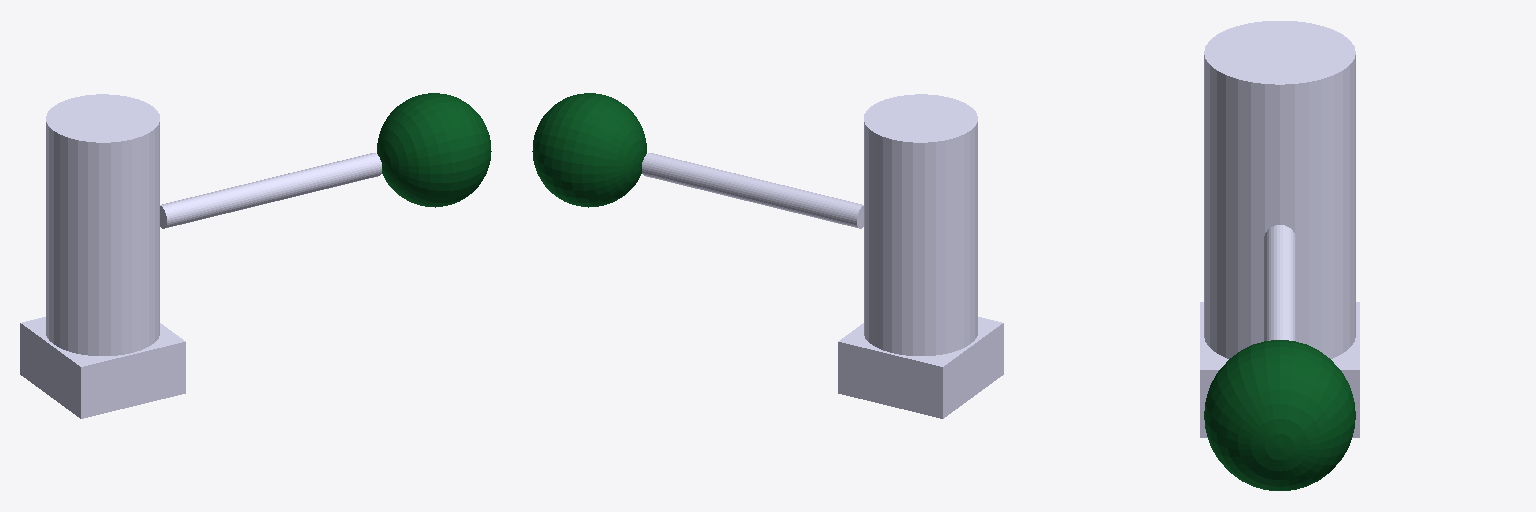
The robot description file, URDF, robot "robot":
<?xml version="1.0"?>
<robot name="robot">

<material name="marble">
  <color rgba="0.9 0.9 1.0 1"/>
</material>

<material name="granite">
  <color rgba="0.1 0.4 0.2 1"/>
</material>

  <link name="base_link">
    <collision>
      <geometry>
       <box size="0.2 0.2 0.1"/> </geometry>
    </collision>
    <visual>
      <geometry>
        <box size="0.19 0.19 0.09"/> </geometry>
      <material name="marble"/>
    </visual>
  </link>

  <joint name="joint1" type="revolute">
    <parent link="base_link"/>
    <child link="shaft"/>
    <axis xyz="0 0 1"/> 
    <origin rpy="0 0 0" xyz="0.0 0.0 0.22"/>
    <limit effort="10" lower="-3.2" upper="3.2" velocity="2.1750"/>
  </joint>

  <link name="shaft">
    <collision>
      <geometry>
        <cylinder length="0.4" radius="0.1"/> </geometry>
    </collision>
    <visual>
      <geometry>
        <cylinder length="0.39" radius="0.09"/> </geometry>
      <material name="marble"/>
    </visual>
  </link>

  <joint name="joint_shaft_piston" type="fixed">
    <parent link="shaft"/>
    <child link="piston"/>
    <origin rpy="0 1.57 0" xyz="0.3 0.0 0.0"/>
  </joint>

  <link name="piston">
    <collision>
      <geometry>
        <cylinder length="0.4" radius="0.02"/> </geometry>
    </collision>
    <visual>
      <geometry>
        <cylinder length="0.39" radius="0.019"/> </geometry>
      <material name="marble"/>
    </visual>
  </link>

  <joint name="joint_piston_ball" type="prismatic">
    <parent link="piston"/>
    <child link="ball"/>
    <axis xyz="0 0 1"/> 
    <limit effort="10" lower="0.2" upper="0.4" velocity="2.1750"/>
  </joint>

  <link name="ball">
    <collision>
      <geometry>
        <sphere radius="0.1"/> </geometry>
    </collision>
    <visual>
      <geometry>
        <sphere radius="0.09"/> </geometry>
      <material name="granite"/>
    </visual>
  </link>

</robot>

--- Facts derived from the render (not from the file) ---
Views: 3 orthographic renders of the robot side by side, from view 1: azimuth 30°, elevation 25°; view 2: azimuth 150°, elevation 25°; view 3: azimuth 270°, elevation 25°.
Robot: robot — 4 links, 3 joints (1 revolute, 1 prismatic, 1 fixed); root link base_link; default pose: all joints at 0 but 1 set to mid-range because 0 is outside their limits (joint_piston_ball = 0.3).
Visible links, largest first — view 1: shaft, ball, base_link, piston; view 2: shaft, ball, base_link, piston; view 3: shaft, ball, piston, base_link.
Boxes of the visible links, x1,y1,x2,y2 form: shaft: [46, 94, 159, 355]; ball: [377, 93, 491, 207]; base_link: [20, 317, 185, 418]; piston: [160, 153, 381, 228]; shaft: [864, 94, 977, 355]; ball: [532, 93, 646, 207]; base_link: [838, 317, 1003, 418]; piston: [642, 153, 863, 228]; shaft: [1204, 21, 1355, 358]; ball: [1204, 340, 1355, 490]; piston: [1264, 225, 1295, 340]; base_link: [1200, 302, 1359, 437].
Bounding box of the posed robot: 0.785 × 0.19 × 0.46 m (x, y, z).
Geometry: primitives only (box / cylinder / sphere), no mesh files.
